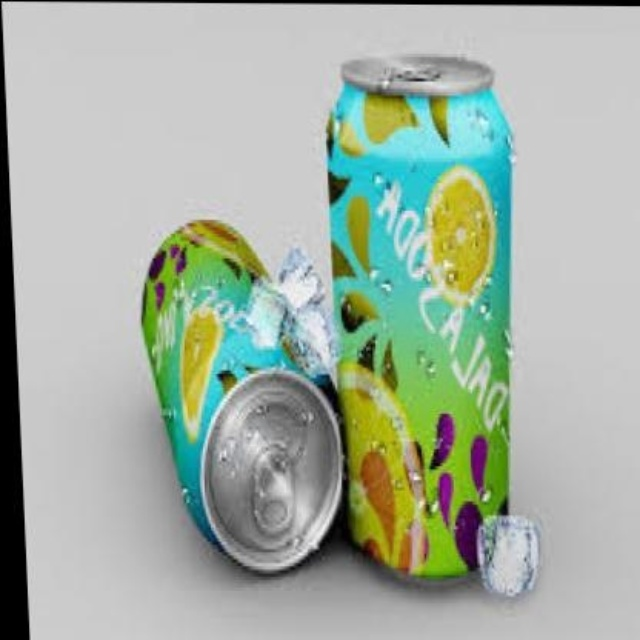trash: (326, 55, 511, 577), (142, 220, 342, 571)
